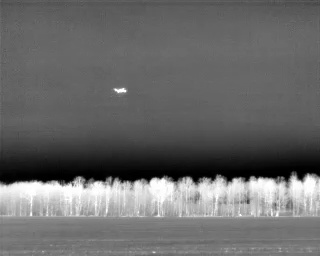DRONE: (110, 83, 131, 98)
